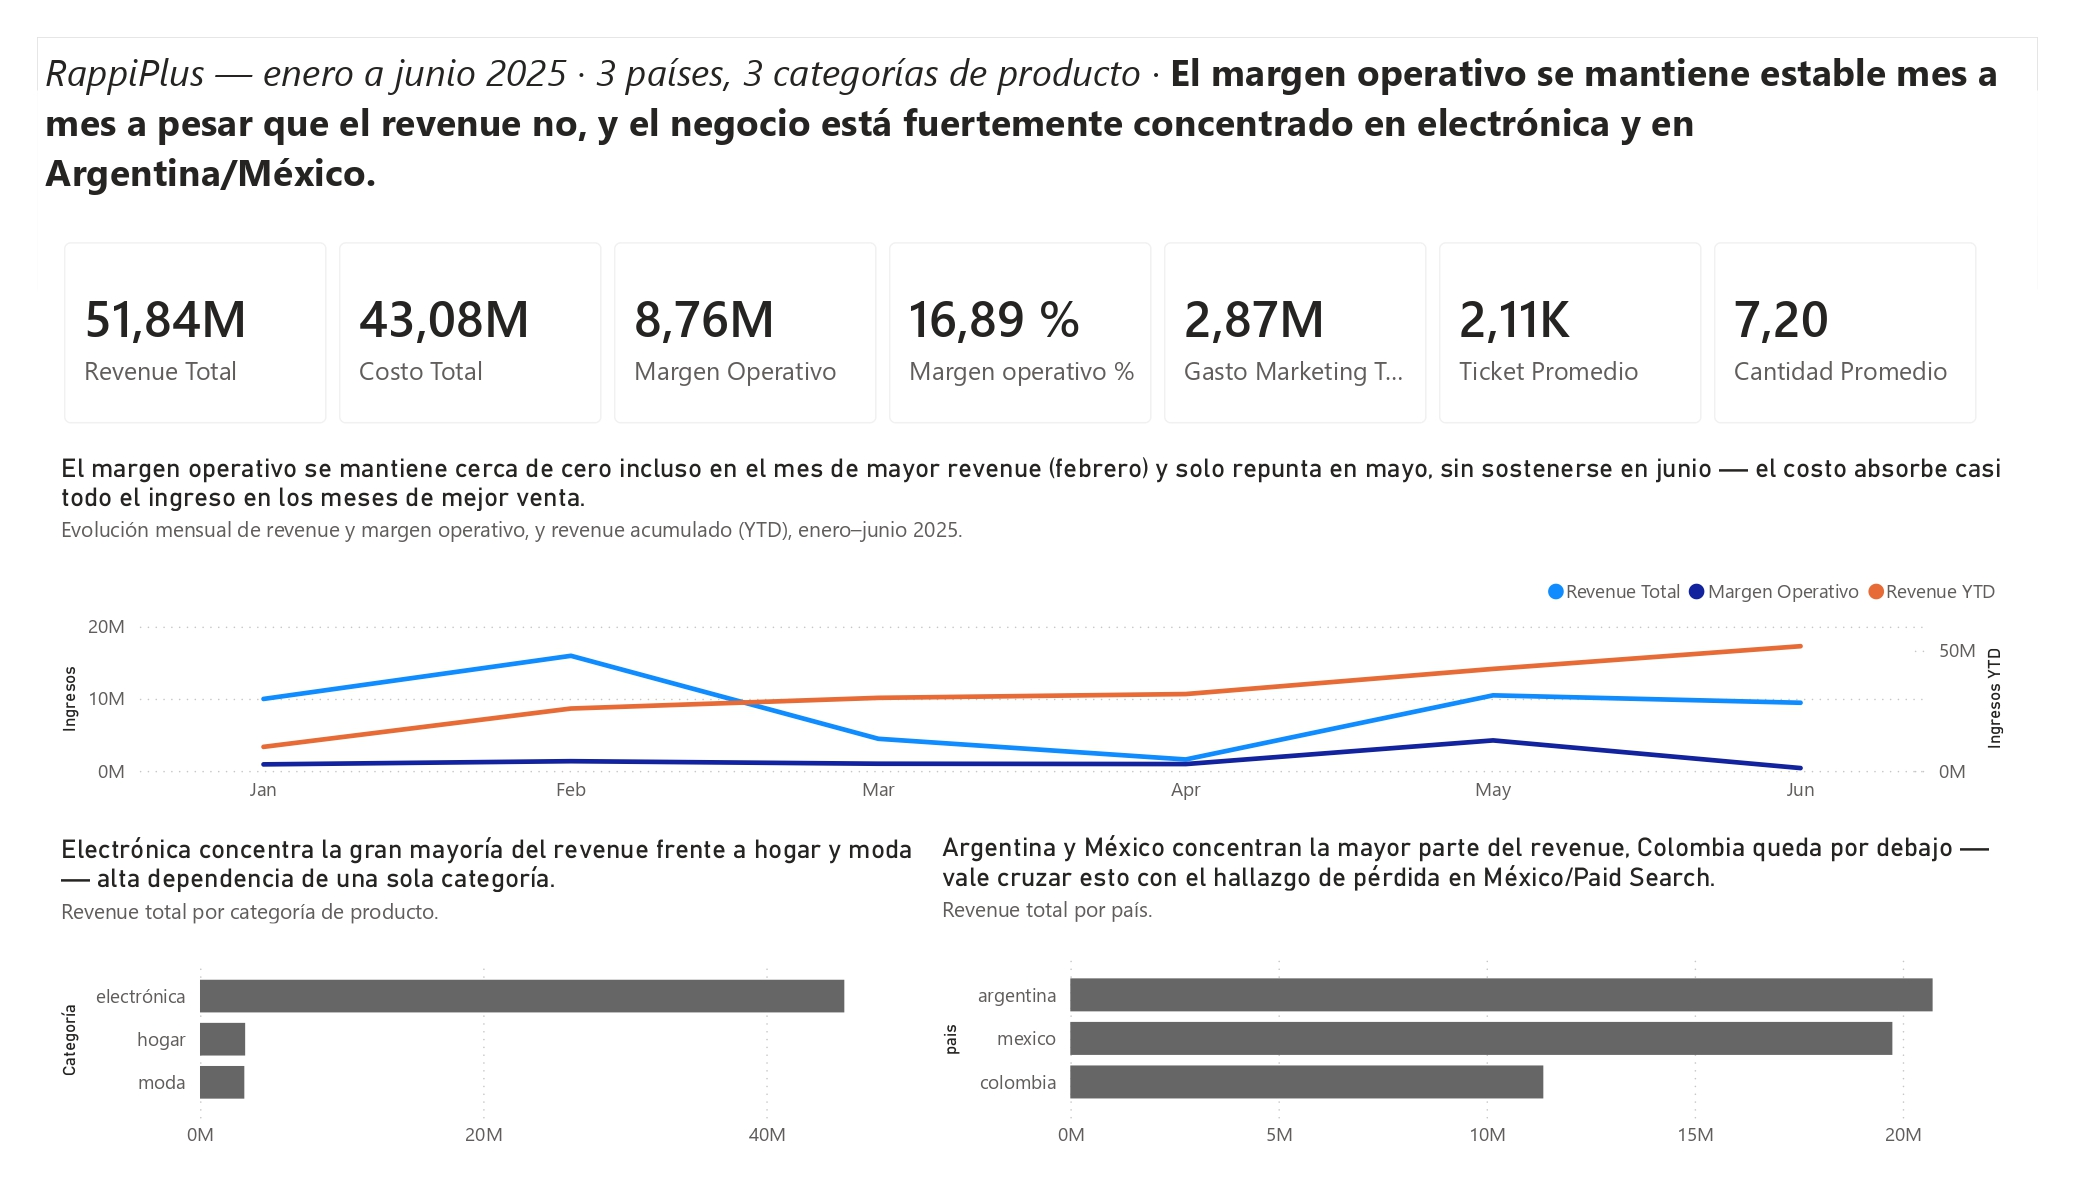

The page's visual inventory and layout, read from the dashboard file:
{"tool":"powerbi","page":{"name":"Overview","canvas":[1280,720],"ordinal":0},"visuals":[{"type":"cardVisual","fields":{"Data":["Medidas.evenue Total","Medidas.Costo Total","Medidas.Profit Total","Medidas.Margen %","Medidas.Gasto Marketing Total","Medidas.Ticket Promedio","Medidas.Cantidad Promedio por Orden"]},"box":[0,114,1264,150],"z":0},{"type":"lineChart","title":"El margen operativo se mantiene cerca de cero incluso en el mes de mayor revenue (febrero) y solo repunta en mayo, sin sostenerse en junio — el costo absorbe casi todo el ingreso en los meses de mejor","fields":{"Y":["Medidas.Revenue Total","Medidas.Profit Total"],"Category":["dim_fecha.Mes"],"Y2":["Medidas.Revenue YTD"]},"box":[9.6,265,1253.8,234.2],"z":2},{"type":"clusteredBarChart","title":"Electrónica concentra la gran mayoría del revenue frente a hogar y moda — alta dependencia de una sola categoría.","fields":{"Y":["Medidas.Revenue Total"],"Category":["catalog_clean.categoria_producto"]},"box":[9.6,508.8,564.5,211.2],"z":3},{"type":"clusteredBarChart","title":"Argentina y México concentran la mayor parte del revenue, Colombia queda por debajo — vale cruzar esto con el hallazgo de pérdida en México/Paid Search.","fields":{"Y":["Medidas.Revenue Total"],"Category":["orders_clean.pais"]},"box":[574,508,690,212],"z":4},{"type":"textbox","box":[0,0,1280,114],"z":5}]}

Visuals, with their boxes on the page's 1280x720 design canvas (x1, y1, x2, y2). These are canvas units, not pixel positions in the 2075x1200 screenshot, which may show the page scaled, cropped or inside an application window:
cardVisual - Medidas.evenue Total x Medidas.Costo Total: bbox(0, 114, 1264, 264)
"El margen operativo se mantiene cerca de cero incluso en el mes de mayor revenue (febrero) y solo repunta en mayo, sin sostenerse en junio — el costo absorbe casi todo el ingreso en los meses de mejor" lineChart: bbox(10, 265, 1263, 499)
"Electrónica concentra la gran mayoría del revenue frente a hogar y moda — alta dependencia de una sola categoría." clusteredBarChart: bbox(10, 509, 574, 720)
"Argentina y México concentran la mayor parte del revenue, Colombia queda por debajo — vale cruzar esto con el hallazgo de pérdida en México/Paid Search." clusteredBarChart: bbox(574, 508, 1264, 720)
textbox: bbox(0, 0, 1280, 114)
